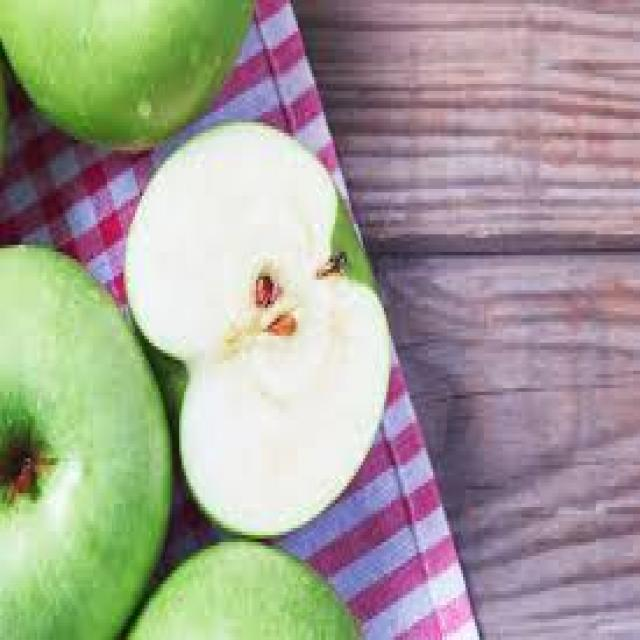Apple: (126, 122, 391, 535), (0, 245, 179, 640), (0, 0, 256, 150), (121, 542, 361, 640)
